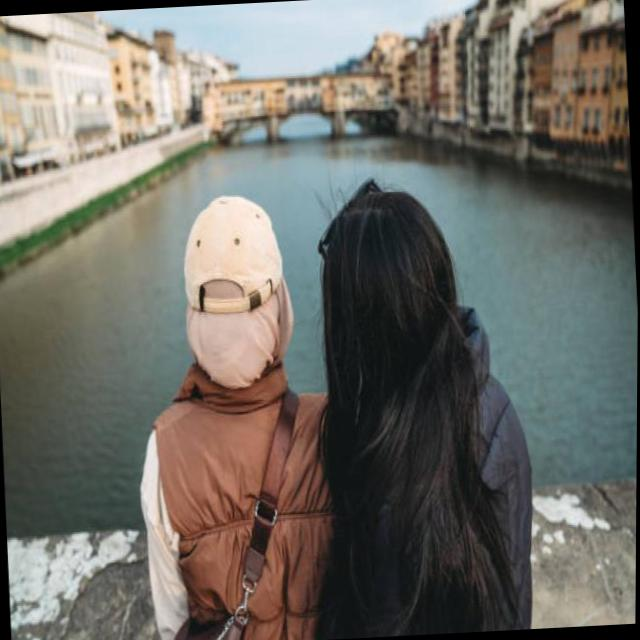no helmet: (158, 152, 320, 394)
